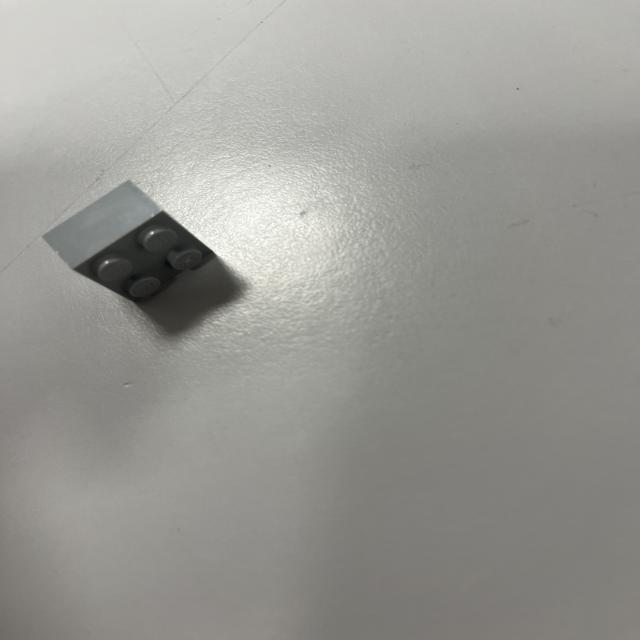C2x2x1: (40, 178, 222, 305)
